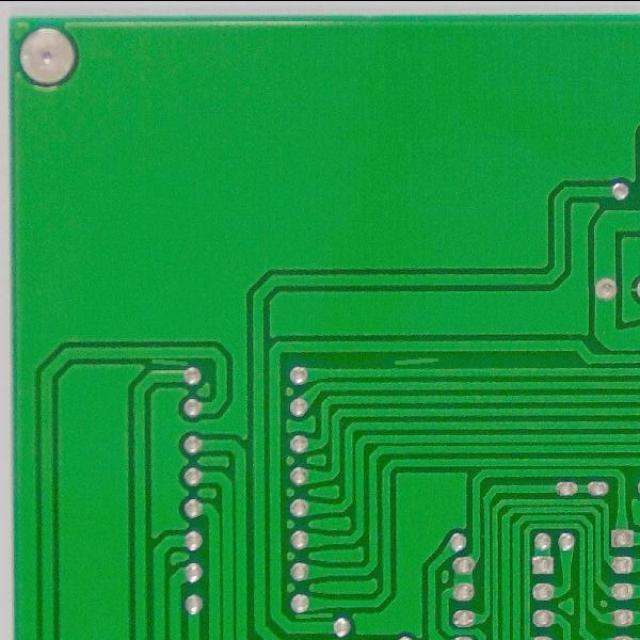Spurious_Cooper: (389, 354, 442, 368), (292, 610, 336, 622), (149, 357, 191, 368)
